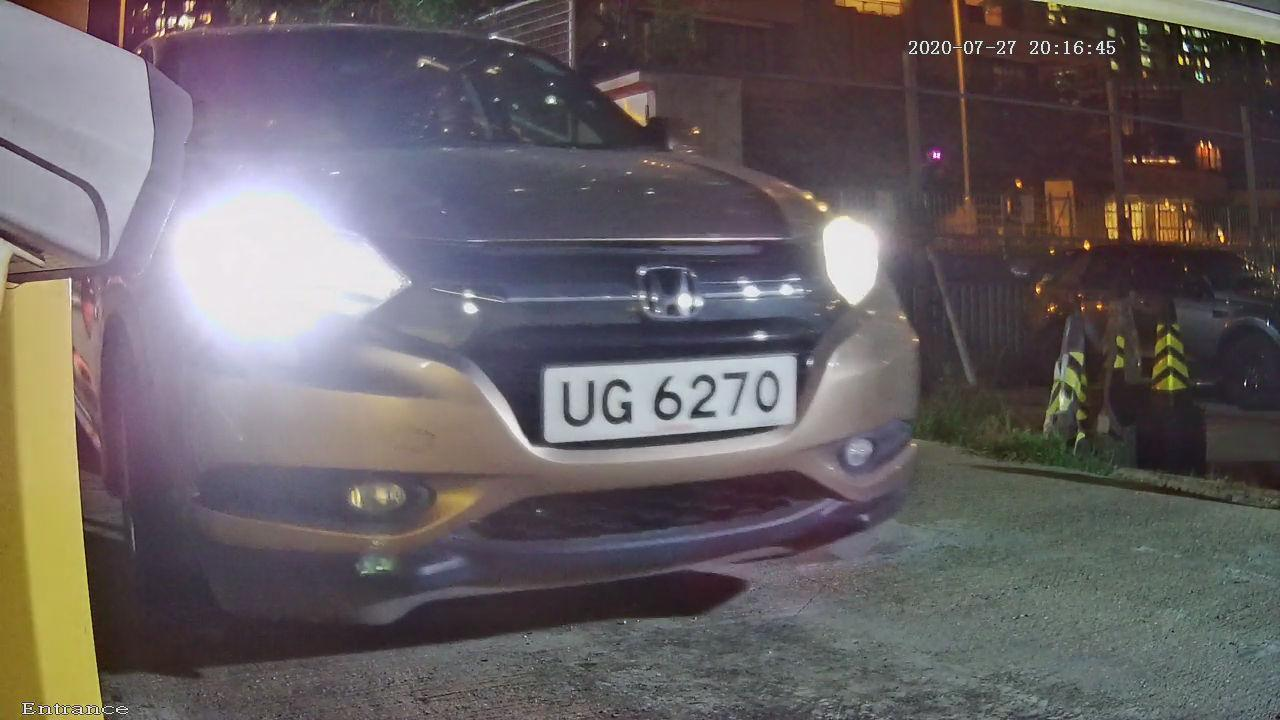privatecar: (92, 10, 949, 653)
